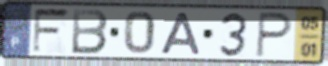0: (122, 9, 158, 56)
3: (217, 11, 249, 58)
A: (159, 11, 203, 56)
B: (70, 8, 111, 57)
F: (31, 7, 73, 56)
P: (254, 10, 295, 60)
